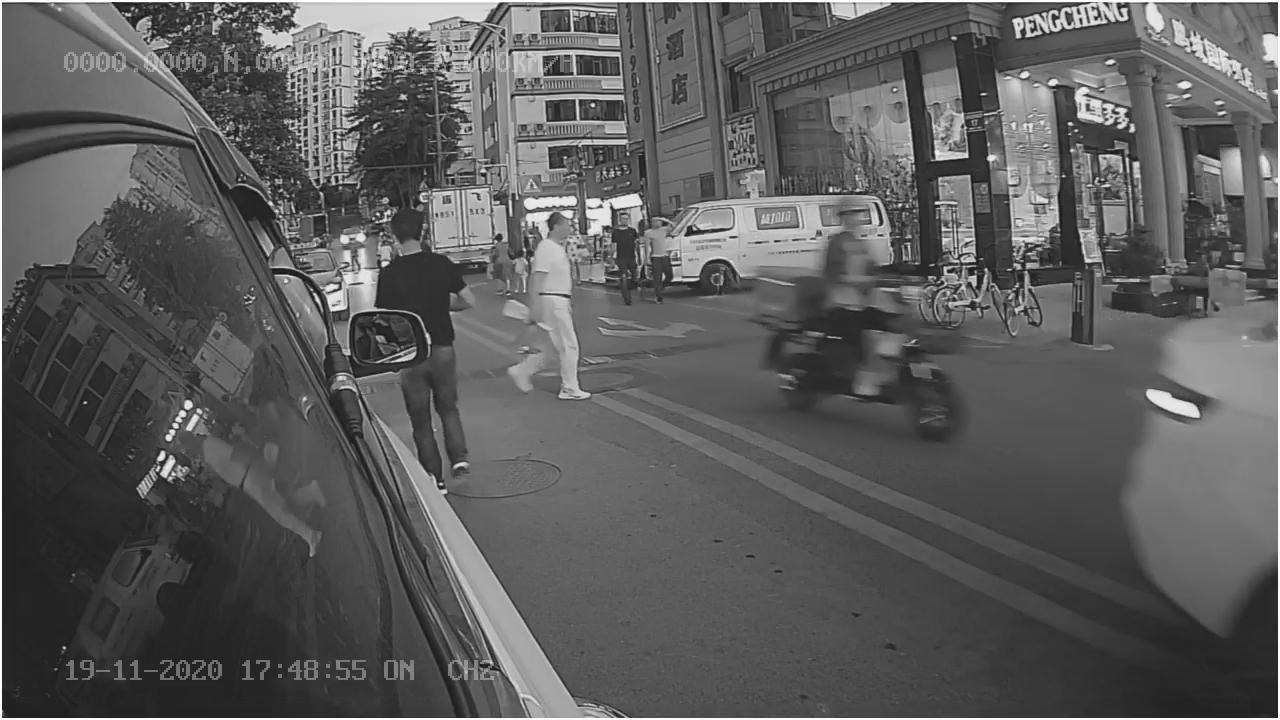person: (504, 210, 598, 405)
